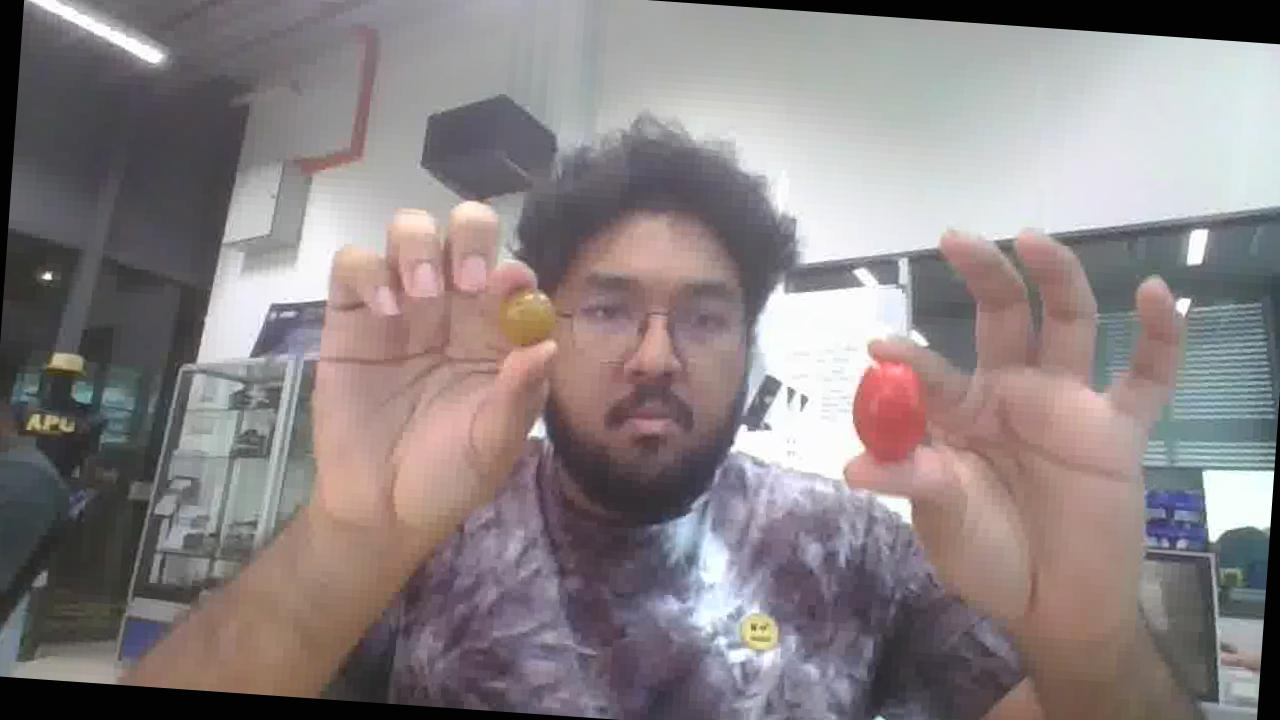red_cherry_tomato: (852, 360, 925, 462)
yellow_cherry_tomato: (501, 289, 556, 345)
